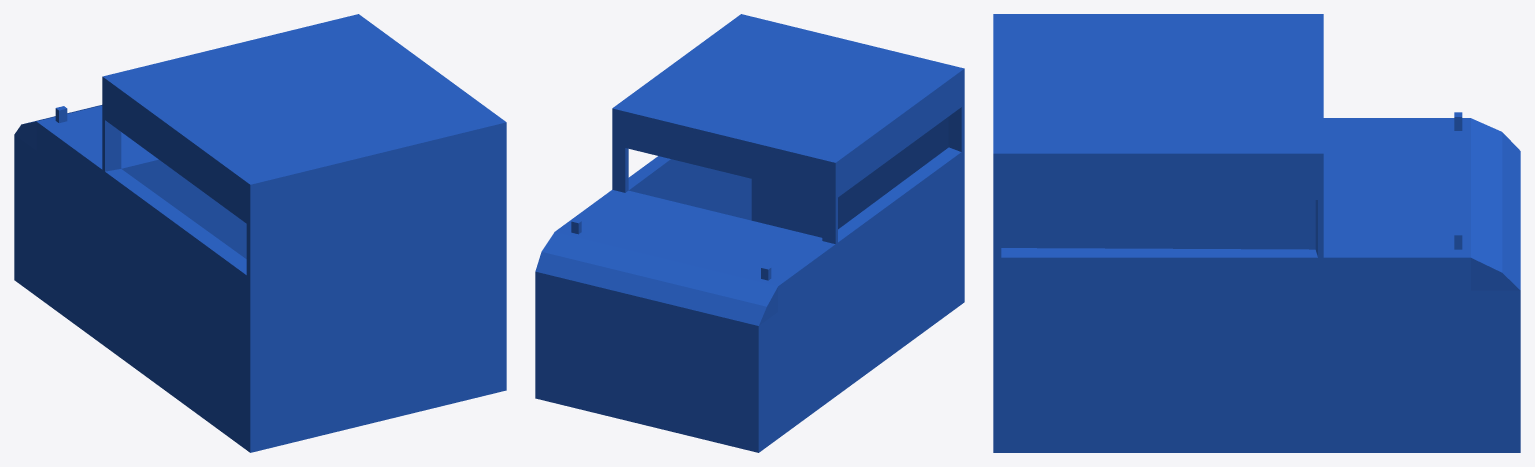
Rendered from test_car1.fbx.
3 views of the same model, side by side, from view 1: azimuth 30°, elevation 25°; view 2: azimuth 150°, elevation 25°; view 3: azimuth 270°, elevation 25° (orthographic). The views are drawn at different scales.
Visible parts, largest first — view 1: Cube; view 2: Cube; view 3: Cube.
Boxes of the visible parts, bbox=[...] form: Cube: bbox=[14, 14, 506, 452]; Cube: bbox=[535, 14, 964, 452]; Cube: bbox=[993, 14, 1520, 452].
Size of the model in its own units: 202 by 200 by 319.
